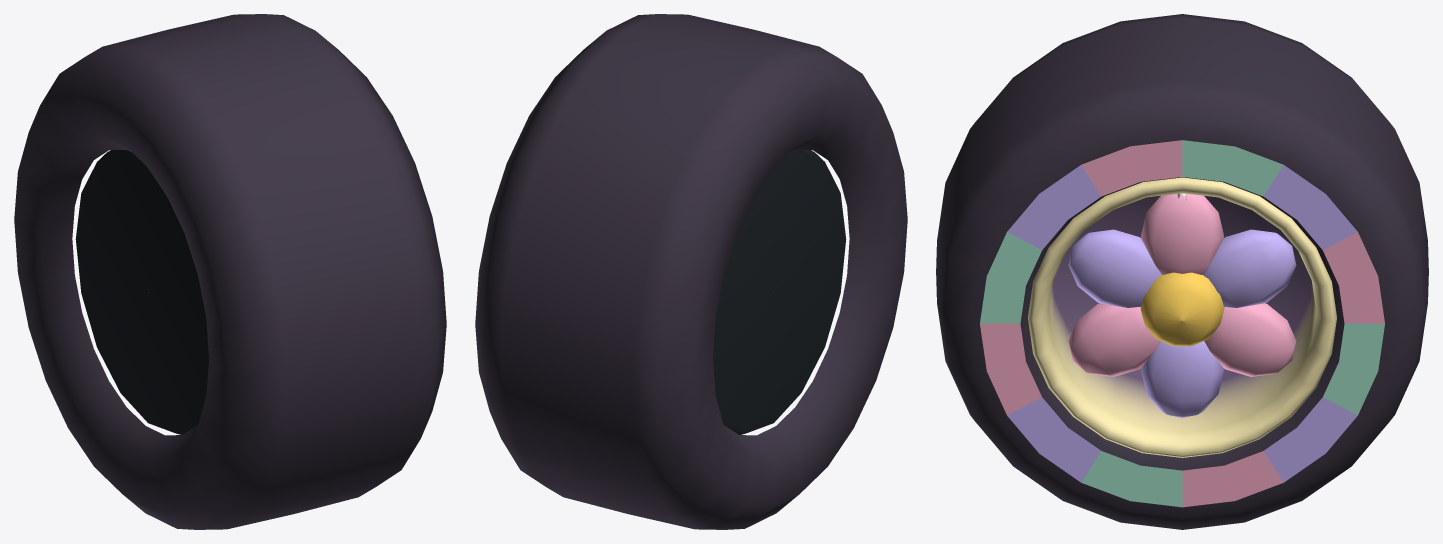
The model's file is flor.glb.
The picture shows the model from 3 angles, left to right: view 1: azimuth 30°, elevation 25°; view 2: azimuth 150°, elevation 25°; view 3: azimuth 270°, elevation 25°; orthographic projection.
Parts seen in each view (by area): view 1: tire; view 2: tire; view 3: tire.
Boxes of the visible parts, <box> form: tire: <box>14,14,446,529</box>; tire: <box>475,14,907,529</box>; tire: <box>936,14,1428,529</box>.
Size of the model in its own units: 1 by 2 by 2.
